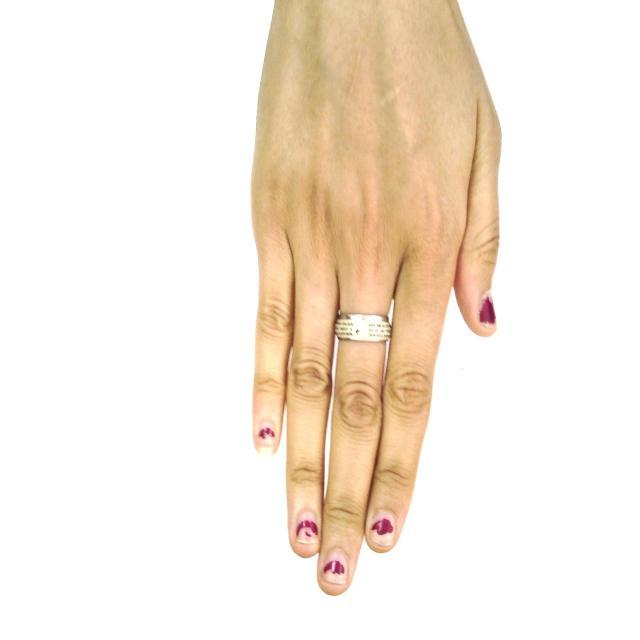Fingernail: (322, 549, 347, 586), (370, 512, 395, 548), (295, 513, 319, 545), (257, 423, 277, 455), (480, 296, 495, 326)
